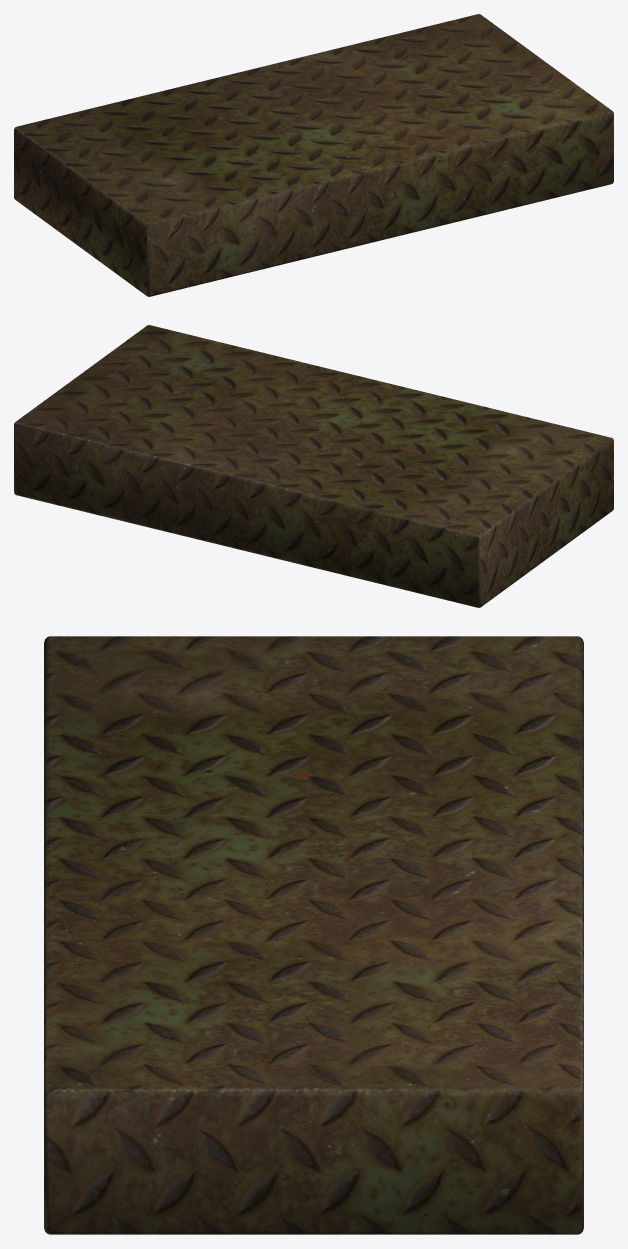
Rendered from panel.glb.
The picture shows the model from 3 angles, top to bottom: view 1: azimuth 30°, elevation 25°; view 2: azimuth 150°, elevation 25°; view 3: azimuth 270°, elevation 25°; orthographic projection. The views are drawn at different scales.
Visible parts, largest first — view 1: panel; view 2: panel; view 3: panel.
Part boxes in pixels (box(x1,y1,x2,y2)): panel: box(14, 14, 613, 296); panel: box(14, 325, 613, 607); panel: box(44, 636, 583, 1234).
Size of the model in its own units: 2 by 0.3 by 1.
Materials: 1 (1 with a texture image).
